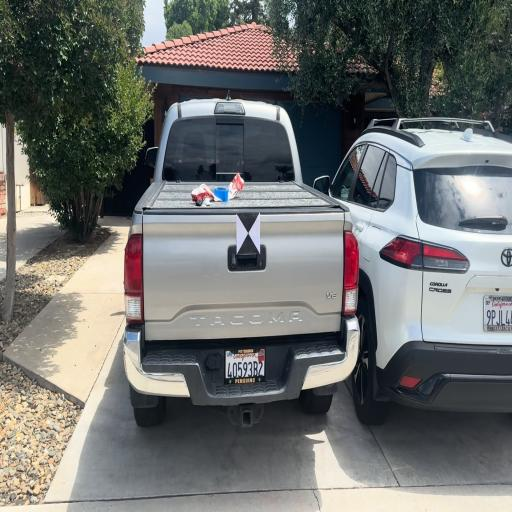target: (237, 213, 260, 254)
